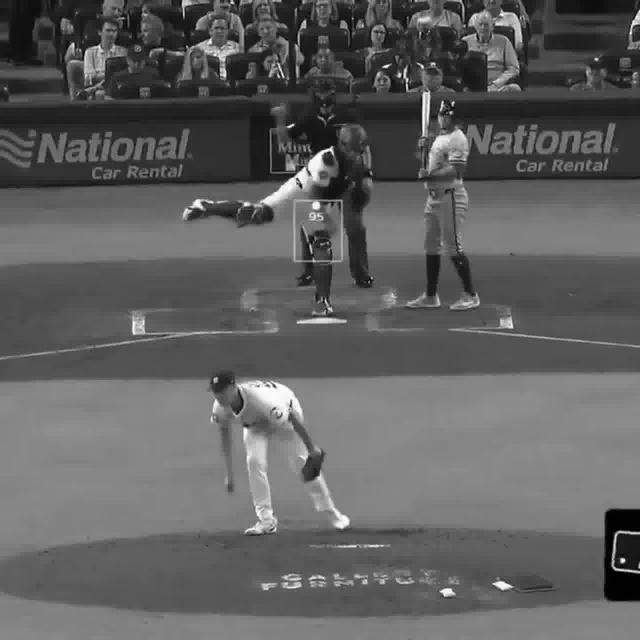base: (296, 314, 349, 326)
baseball_glove: (303, 448, 326, 484)
bat: (419, 88, 434, 182)
shoe: (180, 198, 213, 226), (449, 294, 483, 314), (245, 521, 283, 537), (401, 296, 442, 310), (312, 300, 338, 319), (333, 514, 351, 528)
